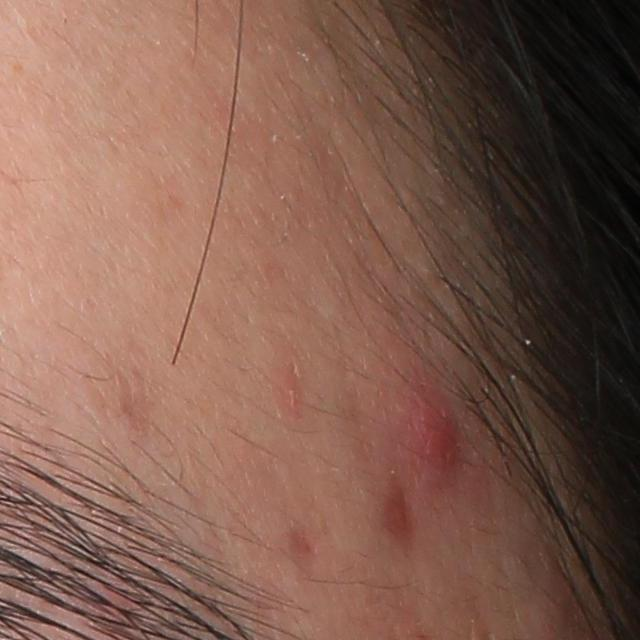papule: (406, 381, 463, 476)
